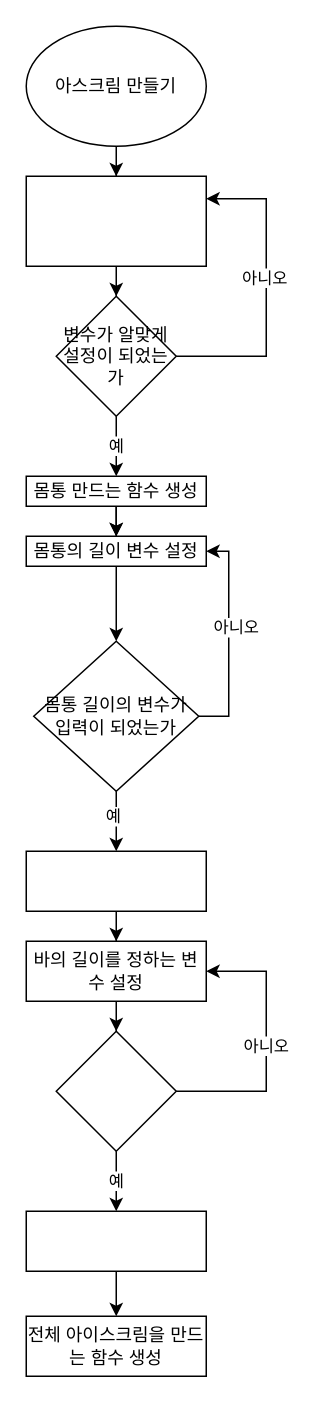
Image size: 315x1403. Some labels were removed from this diagram. The centre of each missing label's shape, as x and y in pixels:
"바를 원하는 길이로 만드는 함수 생성" belongs at point 115,1240.
"바의 길이 변수가 입력이 되었는가" belongs at point 115,1090.
"아이스크림 몸통 아이스크림 토핑 변수 설정" belongs at point 115,220.
"원하는 길이로 몸통 생성하는 함수 생성" belongs at point 115,880.
